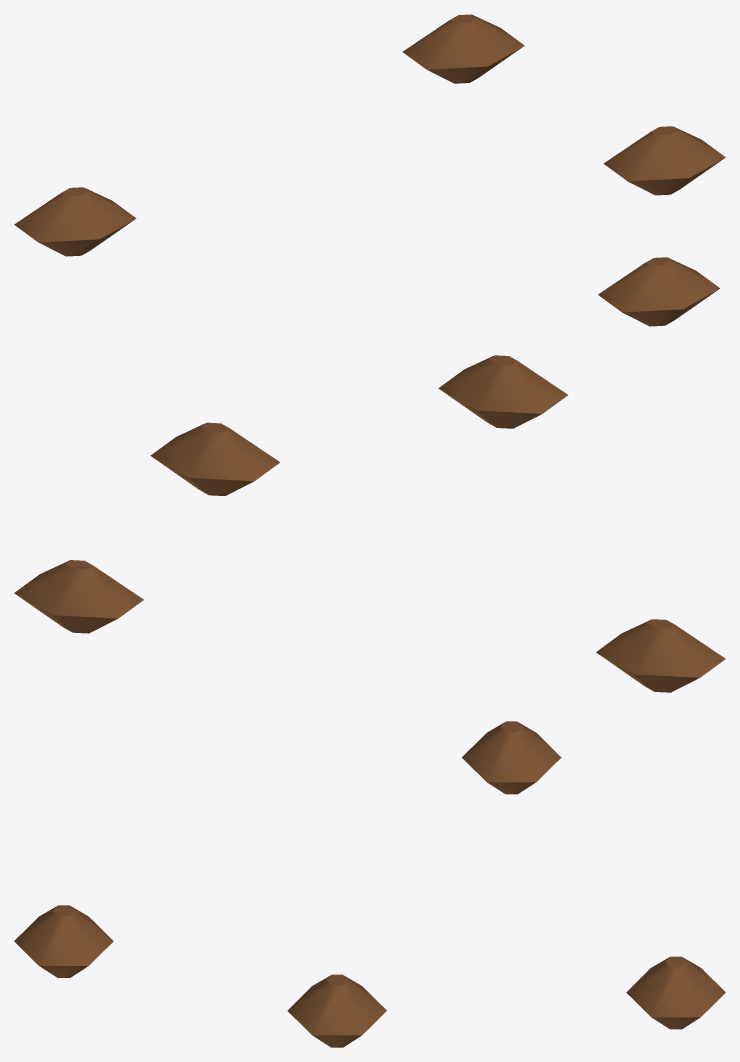
The model's file is crop_corn_seeded.glb.
3 views of the same model, one above another, from view 1: azimuth 30°, elevation 25°; view 2: azimuth 150°, elevation 25°; view 3: azimuth 270°, elevation 25° (orthographic). The views are drawn at different scales.
Parts seen in each view (by area): view 1: crop_corn_seeded_seed_0; view 2: crop_corn_seeded_seed_0; view 3: crop_corn_seeded_seed_0.
Part boxes in pixels (x1,y1,x2,y2): crop_corn_seeded_seed_0: (14, 14, 725, 326); crop_corn_seeded_seed_0: (14, 355, 725, 692); crop_corn_seeded_seed_0: (14, 721, 725, 1047).
Size of the model in its own units: 0.2335 by 0.022 by 0.2322.
